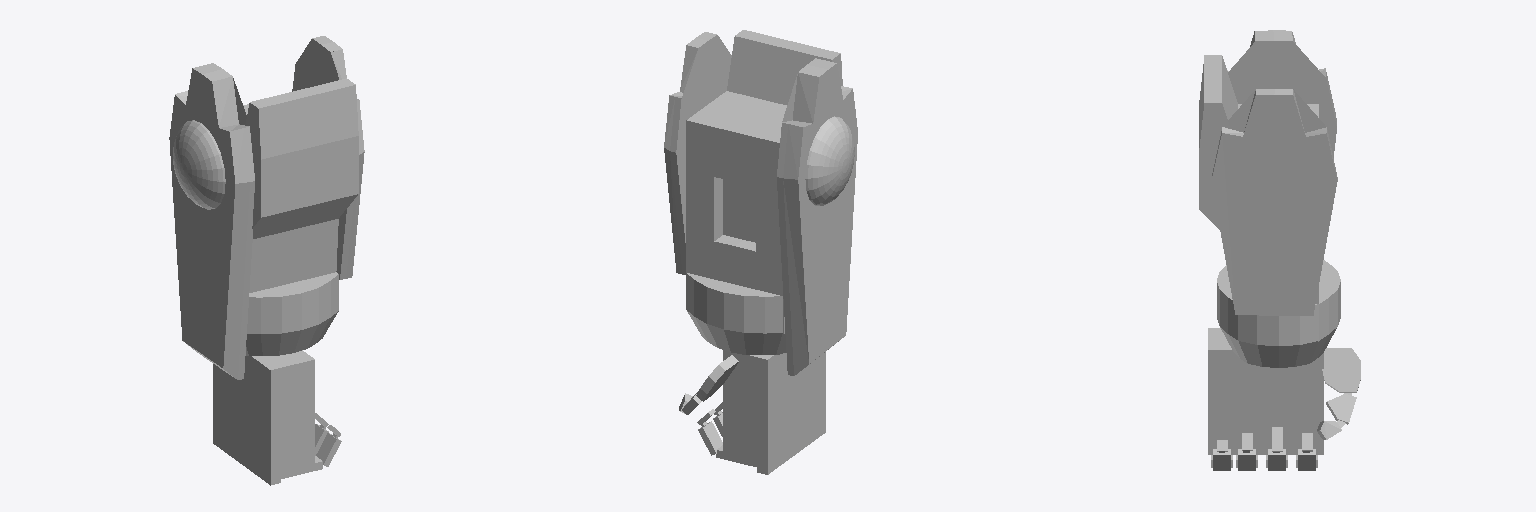
File: ExiaBottomArm.obj
The picture shows the model from 3 angles: view 1: azimuth 30°, elevation 25°; view 2: azimuth 150°, elevation 25°; view 3: azimuth 270°, elevation 25°; orthographic projection.
Visible parts, largest first — view 1: pasted__GN_Vulcan, pCube28; view 2: pasted__GN_Vulcan, pCube28; view 3: pasted__GN_Vulcan, pCube28.
Boxes of the visible parts, <box> form: pasted__GN_Vulcan: <box>169,36,364,379</box>; pCube28: <box>213,350,341,485</box>; pasted__GN_Vulcan: <box>664,30,857,375</box>; pCube28: <box>679,350,825,474</box>; pasted__GN_Vulcan: <box>1199,30,1340,367</box>; pCube28: <box>1208,328,1360,470</box>.
Size of the model in its own units: 0.7881 by 1.98 by 0.7335.